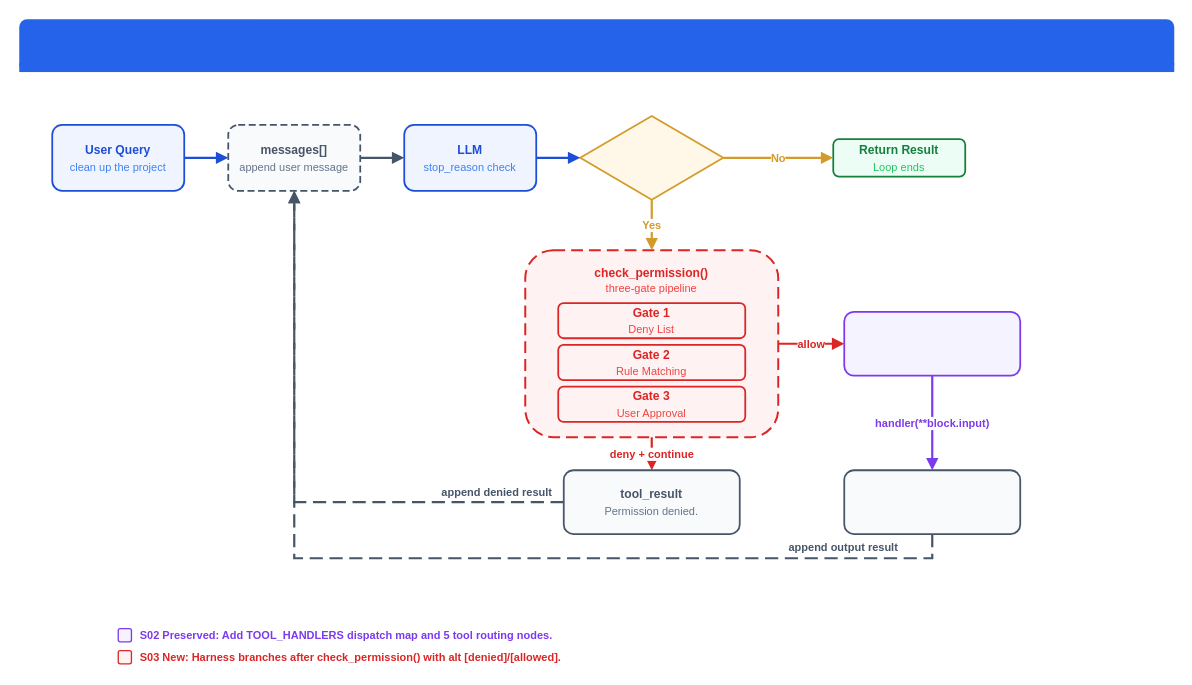
Image size: 1192x685. Some labels were removed from this diagram. The centre of each missing label's shape, as x and y in pixels:
s03 Permission - Loop Unchanged, Add Gate Before Tool Execution: (x=596, y=45)
stop_reason == "tool_use"?: (x=651, y=157)
TOOL_HANDLERS bash/read/write/edit/glob: (x=932, y=343)
tool_result output: (x=932, y=501)
